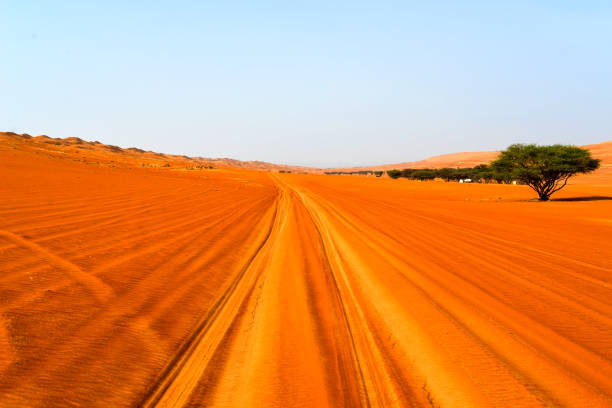vehicle_track: (276, 177, 427, 406), (141, 190, 287, 406)
